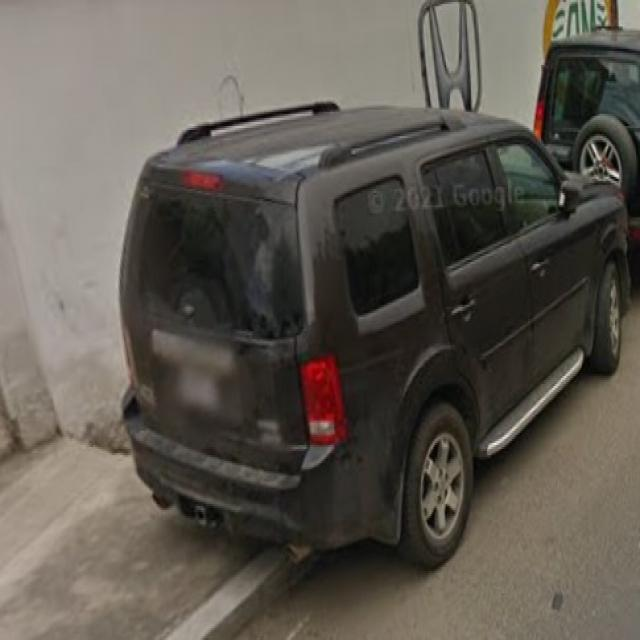Car: (117, 101, 636, 569)
